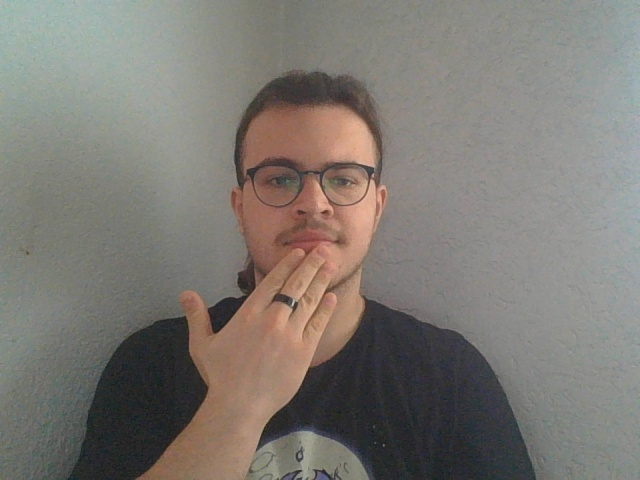ThankYou: (179, 244, 368, 480)
